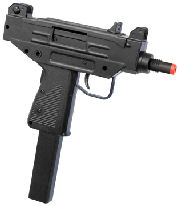rifle: (5, 3, 180, 204)
